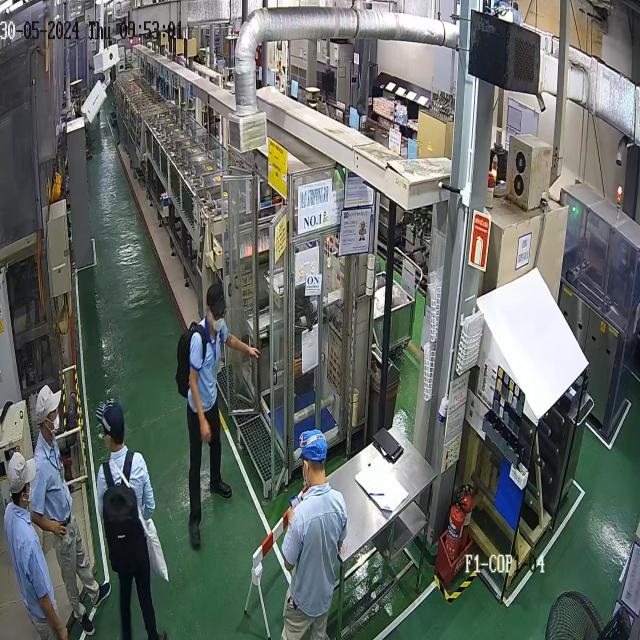Person: (30, 384, 111, 636), (186, 283, 260, 549), (95, 398, 168, 640), (280, 428, 348, 639), (3, 451, 68, 639)
